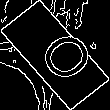O_SW: (20, 22, 90, 88)
